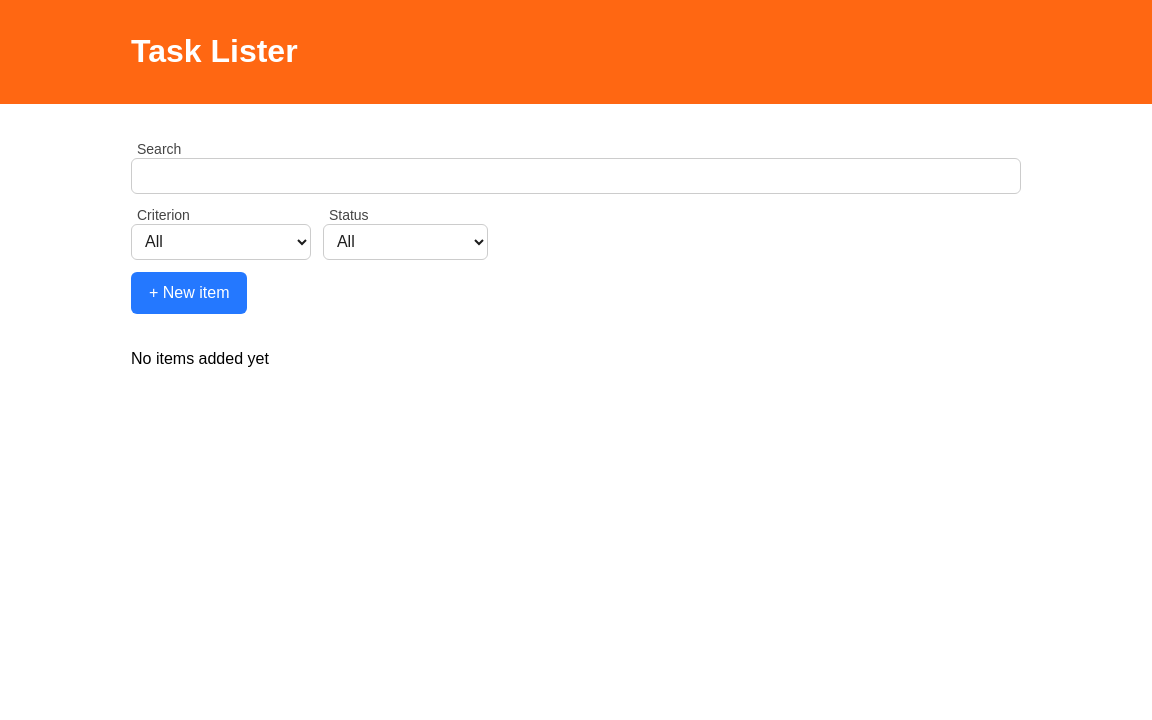
App › Ensures that the form is blank when the "+ New item" button is clicked
The image size is (1152, 720).
What coordinates should you click on to do the following:
click the button "+ New item"
I would click on:
 (189, 293)
Its box is [131,272,248,314].
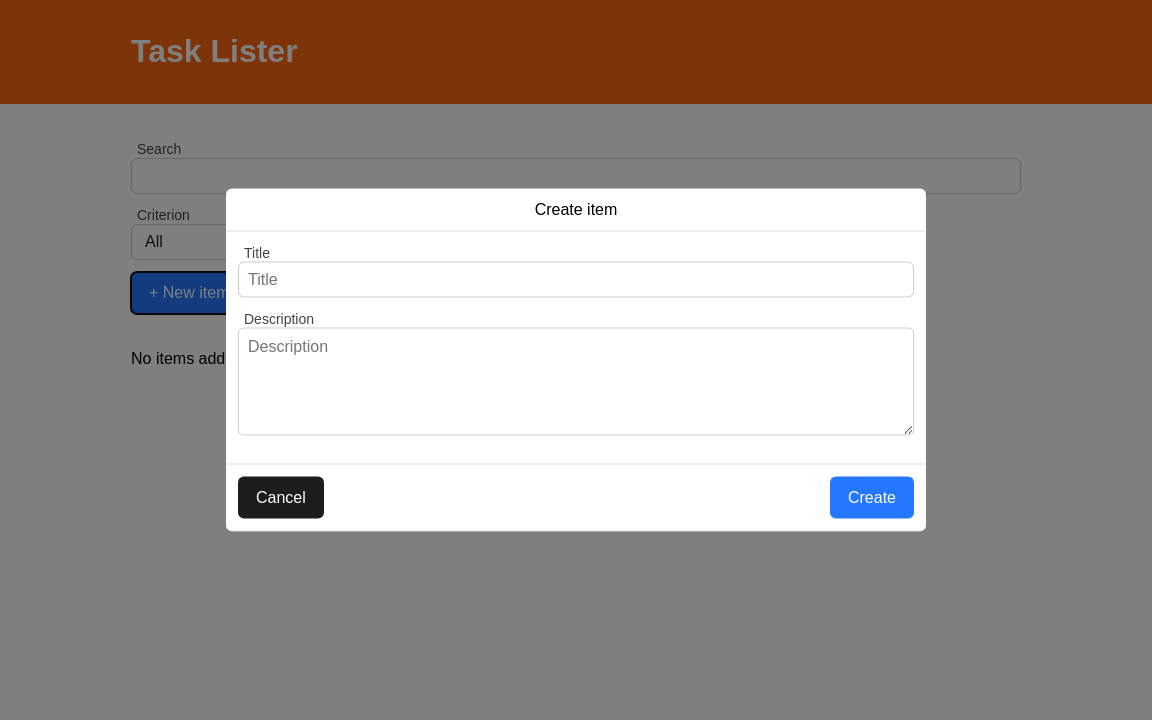
Expected: the text "Create item" is shown, [226,188,926,232]
